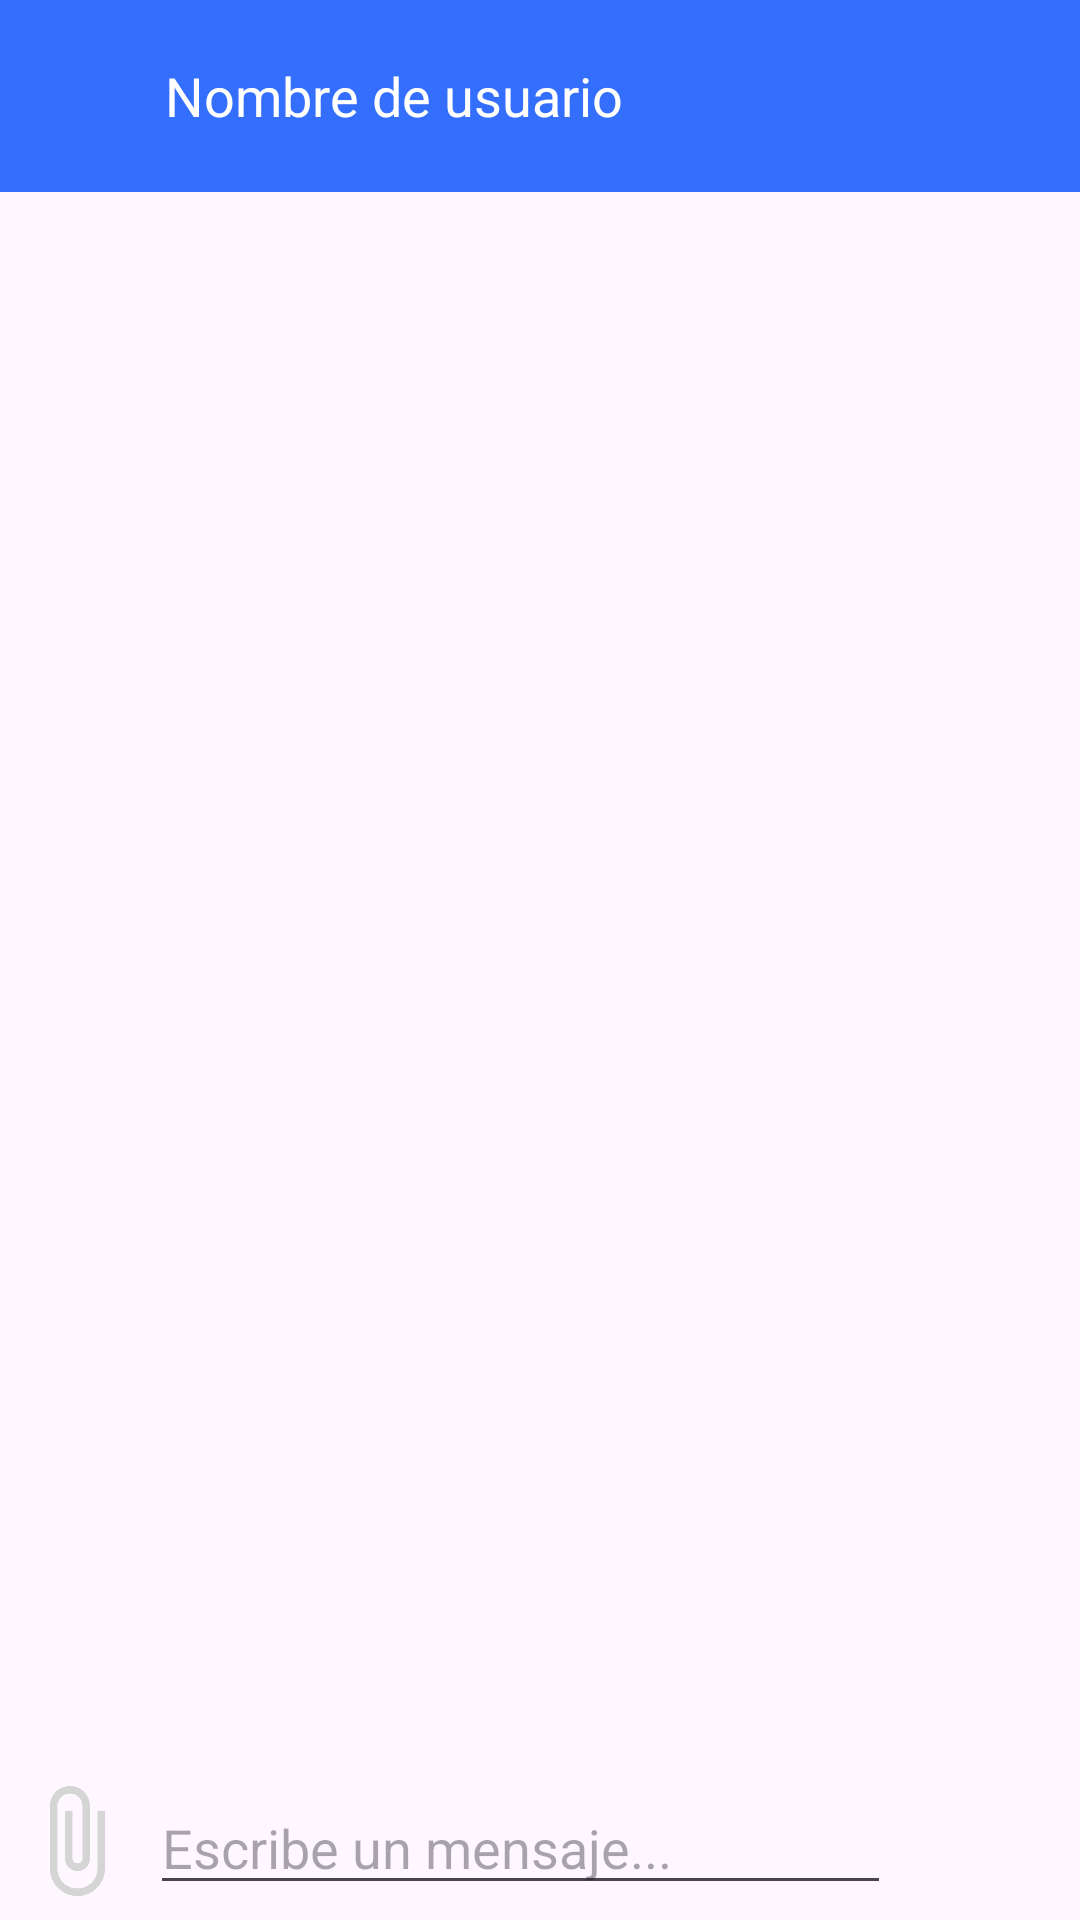

Locate icon controls on the screen. Image size 1080px×1920px, boxes as (x1, y1, x2, y2).
attach: (50, 1786, 105, 1896)
